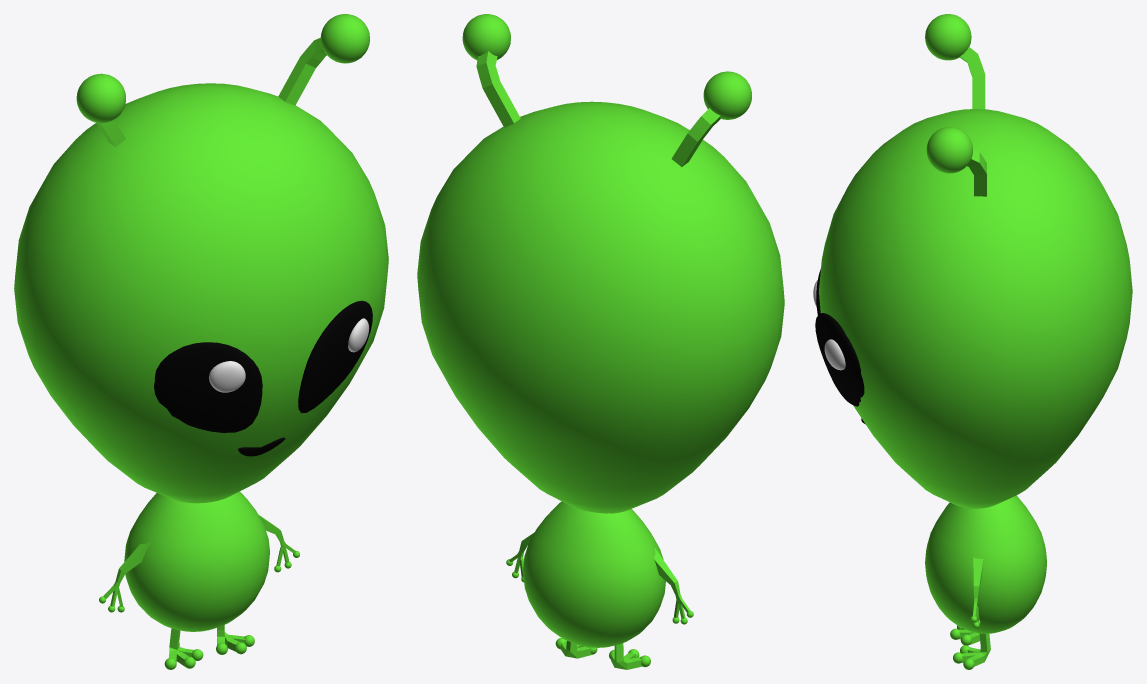
Rendered from alien.blender1.fbx.
3 views of the same model, side by side, from view 1: azimuth 30°, elevation 25°; view 2: azimuth 150°, elevation 25°; view 3: azimuth 270°, elevation 25° (orthographic). The views are drawn at different scales.
Parts seen in each view (by area): view 1: Sphere, Sphere.006, Sphere.002, Sphere.001, Sphere.005, Sphere.004, Plane, Cube, Cube.003; view 2: Sphere, Sphere.006, Sphere.005, Sphere.004, Plane, Plane.001, Cube.003; view 3: Sphere, Sphere.006, Sphere.001, Sphere.004, Sphere.005, Plane.001, Plane, Cube.005.
Boxes of the visible parts, x1=… form: Sphere: x1=14, y1=83, x2=388, y2=503; Sphere.006: x1=124, y1=491, x2=269, y2=631; Sphere.002: x1=154, y1=342, x2=262, y2=432; Sphere.001: x1=298, y1=300, x2=372, y2=413; Sphere.005: x1=76, y1=73, x2=125, y2=123; Sphere.004: x1=320, y1=14, x2=369, y2=63; Plane: x1=278, y1=38, x2=326, y2=105; Cube: x1=209, y1=361, x2=245, y2=392; Cube.003: x1=103, y1=541, x2=151, y2=607; Sphere: x1=417, y1=101, x2=784, y2=513; Sphere.006: x1=523, y1=501, x2=665, y2=647; Sphere.005: x1=703, y1=71, x2=751, y2=119; Sphere.004: x1=462, y1=14, x2=510, y2=60; Plane: x1=476, y1=51, x2=520, y2=127; Plane.001: x1=671, y1=108, x2=720, y2=166; Cube.003: x1=654, y1=548, x2=690, y2=618; Sphere: x1=819, y1=109, x2=1132, y2=508; Sphere.006: x1=925, y1=495, x2=1046, y2=633; Sphere.001: x1=815, y1=313, x2=864, y2=406; Sphere.004: x1=926, y1=127, x2=972, y2=173; Sphere.005: x1=925, y1=14, x2=971, y2=60; Plane.001: x1=960, y1=47, x2=985, y2=109; Plane: x1=967, y1=149, x2=986, y2=196; Cube.005: x1=961, y1=633, x2=990, y2=666.
Bounding box in the file's own units: 200 × 351 × 175.
